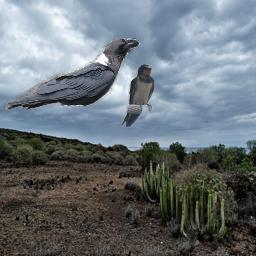Crow: (5, 38, 140, 111)
Swallow: (121, 64, 154, 127)
